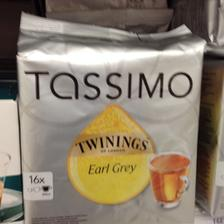Kaffee: (16, 9, 204, 223)
